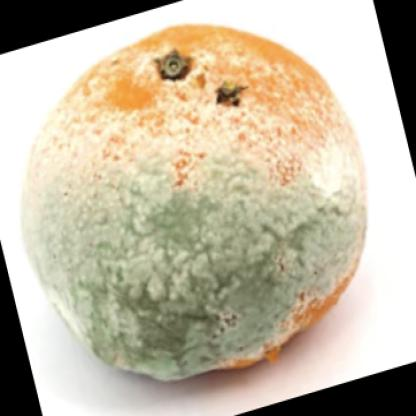rotten: (34, 29, 368, 385)
